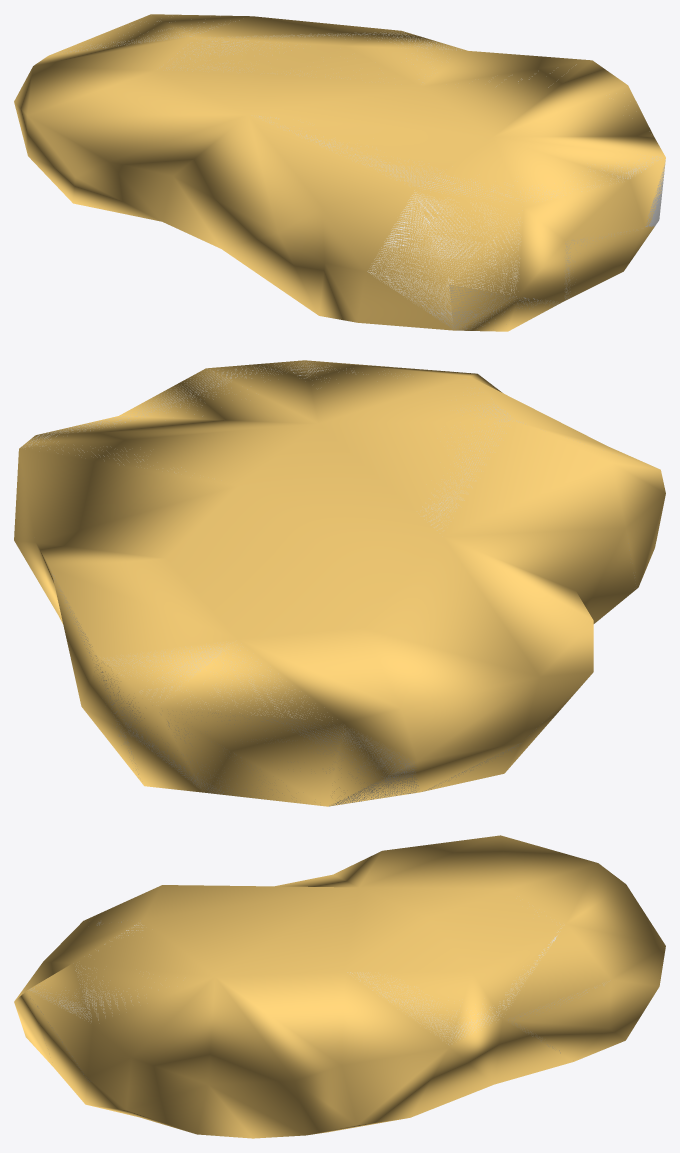
Rendered from PF_Rock_Plate.glb.
3 renders of one model, top to bottom at view 1: azimuth 30°, elevation 25°; view 2: azimuth 150°, elevation 25°; view 3: azimuth 270°, elevation 25°, orthographic. The views are drawn at different scales.
Parts seen in each view (by area): view 1: SM_Rock_Plate-gcc-dirt-L2, SM_Rock_Plate; view 2: SM_Rock_Plate-gcc-dirt-L2, SM_Rock_Plate; view 3: SM_Rock_Plate-gcc-dirt-L2, SM_Rock_Plate.
Boxes of the visible parts, x1=… form: SM_Rock_Plate-gcc-dirt-L2: x1=14, y1=14, x2=665, y2=331; SM_Rock_Plate: x1=59, y1=20, x2=665, y2=330; SM_Rock_Plate-gcc-dirt-L2: x1=14, y1=360, x2=665, y2=806; SM_Rock_Plate: x1=25, y1=362, x2=634, y2=806; SM_Rock_Plate-gcc-dirt-L2: x1=14, y1=835, x2=665, y2=1138; SM_Rock_Plate: x1=29, y1=912, x2=604, y2=1081.
Size of the model in its own units: 24.16 by 5.52 by 28.53.
